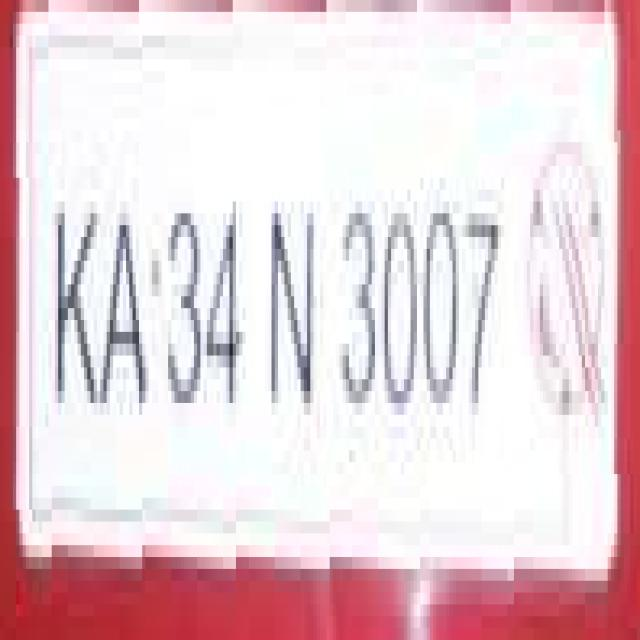license_plate: (26, 12, 637, 557)
